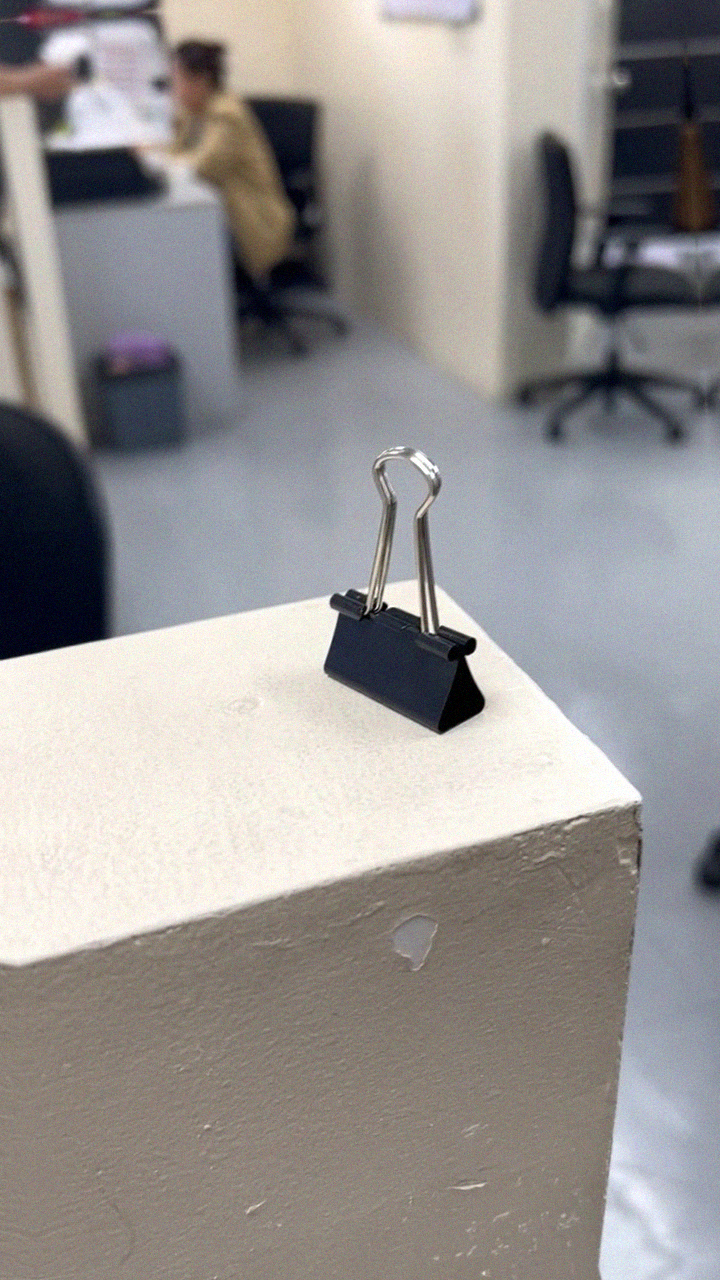kep_giay: (306, 438, 491, 745)
